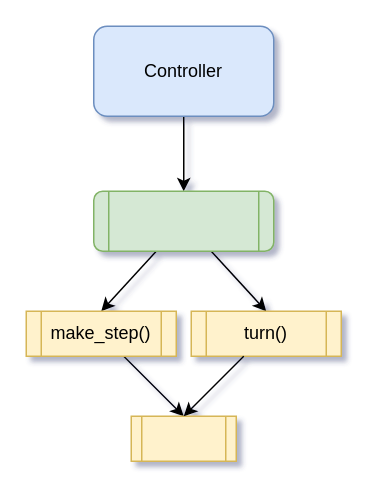
This 377x497 diagram has some shape labels left out. Each missing label, with the centre of its shape:
"_step()" goes at [183,438].
"Movement" goes at [183,220].
